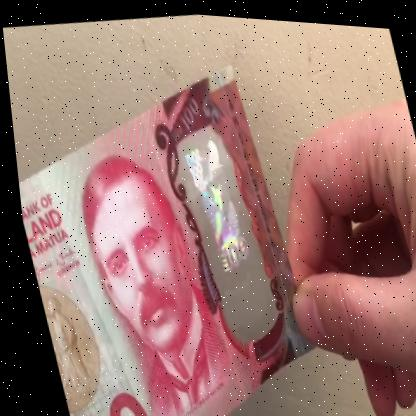100F: (174, 127, 271, 329)
